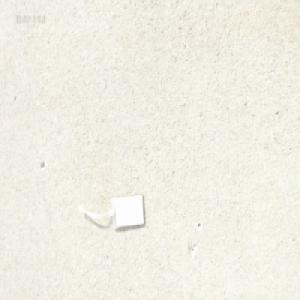LuggageTag: (78, 191, 147, 232)
